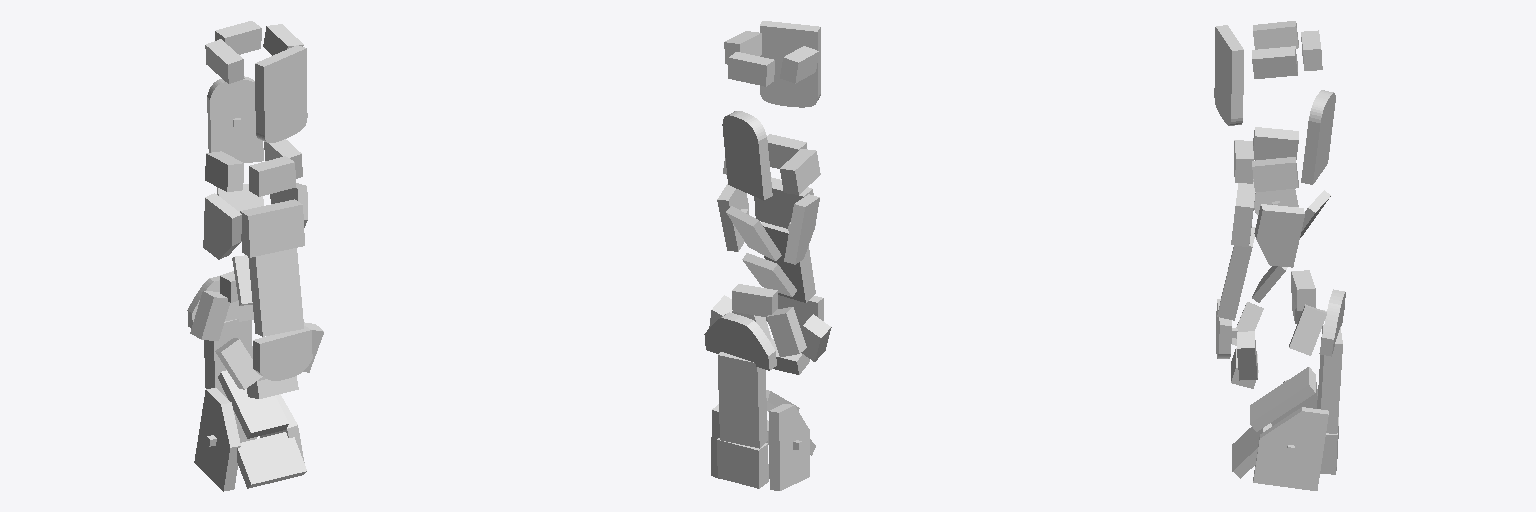
--- Facts derived from the render (not from the file) ---
Views: 3 orthographic renders of the robot side by side, from view 1: azimuth 30°, elevation 25°; view 2: azimuth 150°, elevation 25°; view 3: azimuth 270°, elevation 25°.
Model GEN3_URDF_V12 with 38 links and 37 joints (3 revolute, 4 continuous, 30 fixed), rooted at base_link, posed every joint at zero.
Visible links, largest first — view 1: Taxel_1001, Taxel_1012, Taxel_1005, Taxel_1024, Taxel_1013, Taxel_1026, Taxel_1011, Taxel_1027, Taxel_1014, Taxel_1022, Taxel_1007, Taxel_1020 (+11 smaller); view 2: Taxel_1022, Taxel_1001, Taxel_1005, Taxel_1024, Taxel_1021, Taxel_1023, Taxel_1012, Taxel_1014, Taxel_1013, Taxel_1020, Taxel_1006, Taxel_1003 (+10 smaller); view 3: Taxel_1025, Taxel_1001, Taxel_1015, Taxel_1005, Taxel_1027, Taxel_1022, Taxel_1012, Taxel_1004, Taxel_1006, Taxel_1002, Taxel_1013, Taxel_1018 (+12 smaller).
Boxes of the visible links, left/top/right/bottom form: Taxel_1001: left=255, top=45, right=307, bottom=142; Taxel_1012: left=248, top=248, right=303, bottom=336; Taxel_1005: left=207, top=76, right=263, bottom=162; Taxel_1024: left=194, top=388, right=240, bottom=491; Taxel_1013: left=240, top=199, right=304, bottom=257; Taxel_1026: left=237, top=432, right=306, bottom=488; Taxel_1011: left=253, top=326, right=312, bottom=380; Taxel_1027: left=218, top=370, right=288, bottom=438; Taxel_1014: left=203, top=193, right=241, bottom=259; Taxel_1022: left=204, top=319, right=252, bottom=412; Taxel_1007: left=249, top=156, right=295, bottom=196; Taxel_1020: left=190, top=291, right=229, bottom=340; Taxel_1022: left=718, top=352, right=767, bottom=448; Taxel_1001: left=760, top=21, right=820, bottom=107; Taxel_1005: left=722, top=111, right=772, bottom=200; Taxel_1024: left=769, top=404, right=809, bottom=490; Taxel_1021: left=704, top=312, right=776, bottom=370; Taxel_1023: left=717, top=438, right=768, bottom=488; Taxel_1012: left=761, top=222, right=815, bottom=302; Taxel_1014: left=784, top=194, right=819, bottom=264; Taxel_1013: left=754, top=177, right=815, bottom=228; Taxel_1020: left=767, top=307, right=806, bottom=357; Taxel_1006: left=780, top=149, right=820, bottom=194; Taxel_1003: left=728, top=52, right=774, bottom=86; Taxel_1025: left=1253, top=407, right=1328, bottom=490; Taxel_1001: left=1214, top=25, right=1243, bottom=125; Taxel_1015: left=1254, top=204, right=1304, bottom=267; Taxel_1005: left=1301, top=90, right=1335, bottom=184; Taxel_1027: left=1250, top=367, right=1315, bottom=431; Taxel_1022: left=1317, top=325, right=1342, bottom=433; Taxel_1012: left=1217, top=227, right=1255, bottom=320; Taxel_1004: left=1252, top=157, right=1298, bottom=191; Taxel_1006: left=1253, top=127, right=1298, bottom=160; Taxel_1002: left=1252, top=46, right=1297, bottom=78; Taxel_1013: left=1231, top=182, right=1255, bottom=246; Taxel_1018: left=1289, top=304, right=1326, bottom=355.
Size in the robot's own frame: 0.1445 by 0.1679 by 0.6189 metres.
28 mesh visuals loaded from 36 distinct referenced files (28 binary STL); not drawn: 8 (reference not matched to a file when rendering).

URDF robot description (GEN3_URDF_V12):
<robot name="GEN3_URDF_V12" version="1.0">
  <material name="carbon_fiber">
    <color rgba="0.9 0.9 0.9 1"/>
  </material>
  <link name="base_link">
    <inertial>
      <origin xyz="-0.000648 -0.000166 0.084487" rpy="0 0 0" />
      <mass value="1.697" />
      <inertia ixx="0.004622" ixy="9E-06" ixz="6E-05" iyy="0.004495" iyz="9E-06" izz="0.002079" />
    </inertial>
    <visual>
      <origin xyz="0 0 0" rpy="0 0 0" />
      <geometry>
        <mesh filename="package://meshes/base_link.STL" />
      </geometry>
      <material name="carbon_fiber"/>
    </visual>
    <collision>
      <origin xyz="0 0 0" rpy="0 0 0" />
      <geometry>
        <mesh filename="package://meshes/base_link.STL" />
      </geometry>
    </collision>
  </link>
  <link name="Shoulder_Link">
    <inertial>
      <origin xyz="-2.3E-05 -0.010364 -0.07336" rpy="0 0 0" />
      <mass value="1.3773" />
      <inertia ixx="0.00457" ixy="1E-06" ixz="2E-06" iyy="0.004831" iyz="0.000448" izz="0.001409" />
    </inertial>
    <visual>
      <origin xyz="0 0 0" rpy="0 0 0" />
      <geometry>
        <mesh filename="package://meshes/shoulder_link.STL" />
      </geometry>
      <material name="carbon_fiber"/>
    </visual>
    <collision>
      <origin xyz="0 0 0" rpy="0 0 0" />
      <geometry>
        <mesh filename="package://meshes/shoulder_link.STL" />
      </geometry>
    </collision>
  </link>
  <joint name="Actuator1" type="continuous">
    <origin xyz="0 0 0.15643" rpy="3.1416 2.7629E-18 -4.9305E-36" />
    <parent link="base_link" />
    <child link="Shoulder_Link" />
    <axis xyz="0 0 1" />
    <limit effort="39" velocity="0.8727" />
  </joint>
  <link name="HalfArm1_Link">
    <inertial>
      <origin xyz="-4.4E-05 -0.09958 -0.013278" rpy="0 0 0" />
      <mass value="1.1636" />
      <inertia ixx="0.011088" ixy="5E-06" ixz="0" iyy="0.001072" iyz="-0.000691" izz="0.011255" />
    </inertial>
    <visual>
      <origin xyz="0 0 0" rpy="0 0 0" />
      <geometry>
        <mesh filename="package://meshes/half_arm_1_link.STL" />
      </geometry>
      <material name="carbon_fiber"/>
    </visual>
    <collision>
      <origin xyz="0 0 0" rpy="0 0 0" />
      <geometry>
        <mesh filename="package://meshes/half_arm_1_link.STL" />
      </geometry>
    </collision>
  </link>
  <joint name="Actuator2" type="revolute">
    <origin xyz="0 0.005375 -0.12838" rpy="1.5708 2.1343E-17 -1.1102E-16" />
    <parent link="Shoulder_Link" />
    <child link="HalfArm1_Link" />
    <axis xyz="0 0 1" />
    <limit lower="-2.41" upper="2.41" effort="39" velocity="0.8727" />
  </joint>
  <link name="HalfArm2_Link">
    <inertial>
      <origin xyz="-4.4E-05 -0.006641 -0.117892" rpy="0 0 0" />
      <mass value="1.1636" />
      <inertia ixx="0.010932" ixy="0" ixz="-7E-06" iyy="0.011127" iyz="0.000606" izz="0.001043" />
    </inertial>
    <visual>
      <origin xyz="0 0 0" rpy="0 0 0" />
      <geometry>
        <mesh filename="package://meshes/half_arm_2_link.STL" />
      </geometry>
      <material name="carbon_fiber"/>
    </visual>
    <collision>
      <origin xyz="0 0 0" rpy="0 0 0" />
      <geometry>
        <mesh filename="package://meshes/half_arm_2_link.STL" />
      </geometry>
    </collision>
  </link>
  <joint name="Actuator3" type="continuous">
    <origin xyz="0 -0.21038 -0.006375" rpy="-1.5708 1.2326E-32 -2.9122E-16" />
    <parent link="HalfArm1_Link" />
    <child link="HalfArm2_Link" />
    <axis xyz="0 0 1" />
    <limit effort="39" velocity="0.8727" />
  </joint>
  <link name="ForeArm_Link">
    <inertial>
      <origin xyz="-1.8E-05 -0.075478 -0.015006" rpy="0 0 0" />
      <mass value="0.9302" />
      <inertia ixx="0.008147" ixy="-1E-06" ixz="0" iyy="0.000631" iyz="-0.0005" izz="0.008316" />
    </inertial>
    <visual>
      <origin xyz="0 0 0" rpy="0 0 0" />
      <geometry>
        <mesh filename="package://meshes/forearm_link.STL" />
      </geometry>
      <material name="carbon_fiber"/>
    </visual>
    <collision>
      <origin xyz="0 0 0" rpy="0 0 0" />
      <geometry>
        <mesh filename="package://meshes/forearm_link.STL" />
      </geometry>
    </collision>
  </link>
  <joint name="Actuator4" type="revolute">
    <origin xyz="0 0.006375 -0.21038" rpy="1.5708 -6.6954E-17 -1.6653E-16" />
    <parent link="HalfArm2_Link" />
    <child link="ForeArm_Link" />
    <axis xyz="0 0 1" />
    <limit lower="-2.66" upper="2.66" effort="39" velocity="0.8727" />
  </joint>
  <link name="SphericalWrist1_Link">
    <inertial>
      <origin xyz="1E-06 -0.009432 -0.063883" rpy="0 0 0" />
      <mass value="0.6781" />
      <inertia ixx="0.001596" ixy="0" ixz="0" iyy="0.001607" iyz="0.000256" izz="0.000399" />
    </inertial>
    <visual>
      <origin xyz="0 0 0" rpy="0 0 0" />
      <geometry>
        <mesh filename="package://meshes/spherical_wrist_1_link.STL" />
      </geometry>
      <material name="carbon_fiber"/>
    </visual>
    <collision>
      <origin xyz="0 0 0" rpy="0 0 0" />
      <geometry>
        <mesh filename="package://meshes/spherical_wrist_1_link.STL" />
      </geometry>
    </collision>
  </link>
  <joint name="Actuator5" type="continuous">
    <origin xyz="0 -0.20843 -0.006375" rpy="-1.5708 2.2204E-16 -6.373E-17" />
    <parent link="ForeArm_Link" />
    <child link="SphericalWrist1_Link" />
    <axis xyz="0 0 1" />
    <limit effort="9" velocity="0.8727" />
  </joint>
  <link name="SphericalWrist2_Link">
    <inertial>
      <origin xyz="1E-06 -0.045483 -0.00965" rpy="0 0 0" />
      <mass value="0.6781" />
      <inertia ixx="0.001641" ixy="0" ixz="0" iyy="0.00041" iyz="-0.000278" izz="0.001641" />
    </inertial>
    <visual>
      <origin xyz="0 0 0" rpy="0 0 0" />
      <geometry>
        <mesh filename="package://meshes/spherical_wrist_2_link.STL" />
      </geometry>
      <material name="carbon_fiber"/>
    </visual>
    <collision>
      <origin xyz="0 0 0" rpy="0 0 0" />
      <geometry>
        <mesh filename="package://meshes/spherical_wrist_2_link.STL" />
      </geometry>
    </collision>
  </link>
  <joint name="Actuator6" type="revolute">
    <origin xyz="0 0.00017505 -0.10593" rpy="1.5708 9.2076E-28 -8.2157E-15" />
    <parent link="SphericalWrist1_Link" />
    <child link="SphericalWrist2_Link" />
    <axis xyz="0 0 1" />
    <limit lower="-2.23" upper="2.23" effort="9" velocity="0.8727" />
  </joint>
  <link name="Bracelet_Link">
    <inertial>
      <origin xyz="-0.000281 -0.011402 -0.029798" rpy="0 0 0" />
      <mass value="0.5006" />
      <inertia ixx="0.000587" ixy="3E-06" ixz="3E-06" iyy="0.000369" iyz="0.000118" izz="0.000609" />
    </inertial>
    <visual>
      <origin xyz="0 0 0" rpy="0 0 0" />
      <geometry>
        <mesh filename="package://meshes/bracelet_link.STL" />
      </geometry>
      <material name="carbon_fiber"/>
    </visual>
    <collision>
      <origin xyz="0 0 0" rpy="0 0 0" />
      <geometry>
        <mesh filename="package://meshes/bracelet_link.STL" />
      </geometry>
    </collision>
  </link>
  <joint name="Actuator7" type="continuous">
    <origin xyz="0 -0.10593 -0.00017505" rpy="-1.5708 -5.5511E-17 9.6396E-17" />
    <parent link="SphericalWrist2_Link" />
    <child link="Bracelet_Link" />
    <axis xyz="0 0 1" />
    <limit effort="9" velocity="0.8727" />
  </joint>
  <link name="EndEffector_Link">
    <inertial>
      <origin xyz="2.607703E-08 -0.06152506 -1.476509E-22" rpy="0 0 3.14159265358979"/>
      <mass value="1e-6" />
      <inertia ixx="1e-6" ixy="0" ixz="0" iyy="1e-6" iyz="0" izz="1e-6" />
    </inertial>
  </link>
  <joint name="EndEffector" type="fixed">
    <origin xyz="0 0 -0.0615250000000001" rpy="3.14159265358979 1.09937075168372E-32 0" />
    <parent link="Bracelet_Link" />
    <child link="EndEffector_Link" />
    <axis xyz="0 0 0" />
  </joint>
  <link name="GraspPoint_Link">
    <inertial>
      <origin xyz="-1.683871E-08 0.15 -9.884628E-23" rpy="0 0 0"/>
      <mass value="1e-6" />
      <inertia ixx="1e-6" ixy="0" ixz="0" iyy="1e-6" iyz="0" izz="1e-6" />
    </inertial>
  </link>
  <joint name="GraspPoint" type="fixed">
    <origin xyz="0 0 0.15" rpy="0 0 0" />
    <parent link="EndEffector_Link" />
    <child link="GraspPoint_Link" />
    <axis xyz="0 0 0" />
  </joint>









  <link name="Taxel_1000">
    <inertial>
      <origin xyz="1 1 1" rpy="0 0 0" />
      <mass value="0" />
      <inertia ixx="0" ixy="0" ixz="0" iyy="0" iyz="0" izz="0" />
    </inertial>
    <visual>
      <origin xyz="-0.04250419541867655 -0.07646850041798192 0.0007855905951708805" rpy="-3.089065137954023 -1.4616505955674288 -1.7314738657660083" />
      <geometry>
        <mesh filename="package://meshes/taxel_0.STL" scale="0.01 0.01 0.01"/>
      </geometry>
      <material name="carbon_fiber" />
    </visual>
    <collision>
      <origin xyz="0 0 0" rpy="0 0 0" />
      <geometry>
        <mesh filename="package://meshes/taxel_0.STL" scale="0.01 0.01 0.01"/>
      </geometry>
    </collision>
  </link>

  <joint name="Taxel_1000_joint" type="fixed">
    <origin xyz="0 0 0" rpy="0 0 0" />
    <parent link="SphericalWrist2_Link" />
    <child link="Taxel_1000" />
    <axis xyz="0 0 0" />
  </joint>


  <link name="Taxel_1001">
    <inertial>
      <origin xyz="0 0 0" rpy="0 0 0" />
      <mass value="0" />
      <inertia ixx="0" ixy="0" ixz="0" iyy="0" iyz="0" izz="0" />
    </inertial>
    <visual>
      <origin xyz="-1.4938605298674768e-05 -0.040050790502569544 -0.051076626480111506" rpy="0.8051031730330349 1.1810370681142635 -0.8047010596119217" />
      <geometry>
        <mesh filename="package://meshes/taxel_1.STL" scale="0.01 0.01 0.01"/>
      </geometry>
      <material name="carbon_fiber" />
    </visual>
    <collision>
      <origin xyz="0 0 0" rpy="0 0 0" />
      <geometry>
        <mesh filename="package://meshes/taxel_1.STL" scale="0.01 0.01 0.01"/>
      </geometry>
    </collision>
  </link>

  <joint name="Taxel_1001_joint" type="fixed">
    <origin xyz="0 0 0" rpy="0 0 0" />
    <parent link="SphericalWrist2_Link" />
    <child link="Taxel_1001" />
    <axis xyz="0 0 0" />
  </joint>


  <link name="Taxel_1002">
    <inertial>
      <origin xyz="0 0 0" rpy="0 0 0" />
      <mass value="0" />
      <inertia ixx="0" ixy="0" ixz="0" iyy="0" iyz="0" izz="0" />
    </inertial>
    <visual>
      <origin xyz="0.04271566985884755 -0.07873195857060433 -0.00022802633048775445" rpy="-3.088541874391563 1.4614478801616517 1.7319294614617435" />
      <geometry>
        <mesh filename="package://meshes/taxel_2.STL" scale="0.01 0.01 0.01"/>
      </geometry>
      <material name="carbon_fiber" />
    </visual>
    <collision>
      <origin xyz="0 0 0" rpy="0 0 0" />
      <geometry>
        <mesh filename="package://meshes/taxel_2.STL" scale="0.01 0.01 0.01"/>
      </geometry>
    </collision>
  </link>

  <joint name="Taxel_1002_joint" type="fixed">
    <origin xyz="0 0 0" rpy="0 0 0" />
    <parent link="SphericalWrist2_Link" />
    <child link="Taxel_1002" />
    <axis xyz="0 0 0" />
  </joint>


  <link name="Taxel_1003">
    <inertial>
      <origin xyz="0 0 0" rpy="0 0 0" />
      <mass value="0" />
      <inertia ixx="0" ixy="0" ixz="0" iyy="0" iyz="0" izz="0" />
    </inertial>
    <visual>
      <origin xyz="-1.241750836219415e-05 -0.07730975191366674 0.0431837840229755" rpy="0.7858420871596943 -1.494090029759969 -2.355205855806936" />
      <geometry>
        <mesh filename="package://meshes/taxel_3.STL" scale="0.01 0.01 0.01"/>
      </geometry>
      <material name="carbon_fiber" />
    </visual>
    <collision>
      <origin xyz="0 0 0" rpy="0 0 0" />
      <geometry>
        <mesh filename="package://meshes/taxel_3.STL" scale="0.01 0.01 0.01"/>
      </geometry>
    </collision>
  </link>

  <joint name="Taxel_1003_joint" type="fixed">
    <origin xyz="0 0 0" rpy="0 0 0" />
    <parent link="SphericalWrist2_Link" />
    <child link="Taxel_1003" />
    <axis xyz="0 0 0" />
  </joint>


  <link name="Taxel_1004">
    <inertial>
      <origin xyz="0 0 0" rpy="0 0 0" />
      <mass value="0" />
      <inertia ixx="0" ixy="0" ixz="0" iyy="0" iyz="0" izz="0" />
    </inertial>
    <visual>
      <origin xyz="0.043150247276728726 -0.0001254639437208889 -0.02783098306648868" rpy="-0.10804878460644929 0.10728206669616602 -1.572018748036638" />
      <geometry>
        <mesh filename="package://meshes/taxel_4.STL" scale="0.01 0.01 0.01"/>
      </geometry>
      <material name="carbon_fiber" />
    </visual>
    <collision>
      <origin xyz="0 0 0" rpy="0 0 0" />
      <geometry>
        <mesh filename="package://meshes/taxel_4.STL" scale="0.01 0.01 0.01"/>
      </geometry>
    </collision>
  </link>

  <joint name="Taxel_1004_joint" type="fixed">
    <origin xyz="0 0 0" rpy="0 0 0" />
    <parent link="SphericalWrist1_Link" />
    <child link="Taxel_1004" />
    <axis xyz="0 0 0" />
  </joint>


  <link name="Taxel_1005">
    <inertial>
      <origin xyz="0 0 0" rpy="0 0 0" />
      <mass value="0" />
      <inertia ixx="0" ixy="0" ixz="0" iyy="0" iyz="0" izz="0" />
    </inertial>
    <visual>
      <origin xyz="-0.0002382337409993086 -0.05179760671765822 -0.06710984221647054" rpy="-3.1415729263051864 0.2887493170310709 1.85959195023485" />
      <geometry>
        <mesh filename="package://meshes/taxel_5.STL" scale="0.01 0.01 0.01"/>
      </geometry>
      <material name="carbon_fiber" />
    </visual>
    <collision>
      <origin xyz="0 0 0" rpy="0 0 0" />
      <geometry>
        <mesh filename="package://meshes/taxel_5.STL" scale="0.01 0.01 0.01"/>
      </geometry>
    </collision>
  </link>

  <joint name="Taxel_1005_joint" type="fixed">
    <origin xyz="0 0 0" rpy="0 0 0" />
    <parent link="SphericalWrist1_Link" />
    <child link="Taxel_1005" />
    <axis xyz="0 0 0" />
  </joint>


  <link name="Taxel_1006">
    <inertial>
      <origin xyz="0 0 0" rpy="0 0 0" />
      <mass value="0" />
      <inertia ixx="0" ixy="0" ixz="0" iyy="0" iyz="0" izz="0" />
    </inertial>
    <visual>
      <origin xyz="-0.04318974980140639 -0.00010915210035311942 -0.02761946835919482" rpy="-3.0338279148872993 -0.10703935821961919 -1.5720999606389765" />
      <geometry>
        <mesh filename="package://meshes/taxel_6.STL" scale="0.01 0.01 0.01"/>
      </geometry>
      <material name="carbon_fiber" />
    </visual>
    <collision>
      <origin xyz="0 0 0" rpy="0 0 0" />
      <geometry>
        <mesh filename="package://meshes/taxel_6.STL" scale="0.01 0.01 0.01"/>
      </geometry>
    </collision>
  </link>

  <joint name="Taxel_1006_joint" type="fixed">
    <origin xyz="0 0 0" rpy="0 0 0" />
    <parent link="SphericalWrist1_Link" />
    <child link="Taxel_1006" />
    <axis xyz="0 0 0" />
  </joint>


  <link name="Taxel_1007">
    <inertial>
      <origin xyz="0 0 0" rpy="0 0 0" />
      <mass value="0" />
      <inertia ixx="0" ixy="0" ixz="0" iyy="0" iyz="0" izz="0" />
    </inertial>
    <visual>
      <origin xyz="-1.1618120415300221e-05 0.043922698718644126 -0.02686054939608018" rpy="-3.141575363345089 0.03470509551820289 1.5361425157308872" />
      <geometry>
        <mesh filename="package://meshes/taxel_7.STL" scale="0.01 0.01 0.01"/>
      </geometry>
      <material name="carbon_fiber" />
    </visual>
    <collision>
      <origin xyz="0 0 0" rpy="0 0 0" />
      <geometry>
        <mesh filename="package://meshes/taxel_7.STL" scale="0.01 0.01 0.01"/>
      </geometry>
    </collision>
  </link>

  <joint name="Taxel_1007_joint" type="fixed">
    <origin xyz="0 0 0" rpy="0 0 0" />
    <parent link="SphericalWrist1_Link" />
    <child link="Taxel_1007" />
    <axis xyz="0 0 0" />
  </joint>


  <link name="Taxel_1008">
    <inertial>
      <origin xyz="0 0 0" rpy="0 0 0" />
      <mass value="0" />
      <inertia ixx="0" ixy="0" ixz="0" iyy="0" iyz="0" izz="0" />
    </inertial>
    <visual>
      <origin xyz="0.047082560876994604 0.016625508860321547 -0.046140884202656954" rpy="-2.12255653015872 -0.006017370331153238 0.35511138283130794" />
      <geometry>
        <mesh filename="package://meshes/taxel_8.STL" scale="0.01 0.01 0.01"/>
      </geometry>
      <material name="carbon_fiber" />
    </visual>
    <collision>
      <origin xyz="0 0 0" rpy="0 0 0" />
      <geometry>
        <mesh filename="package://meshes/taxel_8.STL" scale="0.01 0.01 0.01"/>
      </geometry>
    </collision>
  </link>

  <joint name="Taxel_1008_joint" type="fixed">
    <origin xyz="0 0 0" rpy="0 0 0" />
    <parent link="ForeArm_Link" />
    <child link="Taxel_1008" />
    <axis xyz="0 0 0" />
  </joint>


  <link name="Taxel_1009">
    <inertial>
      <origin xyz="0 0 0" rpy="0 0 0" />
      <mass value="0" />
      <inertia ixx="0" ixy="0" ixz="0" iyy="0" iyz="0" izz="0" />
    </inertial>
    <visual>
      <origin xyz="-6.7198083501523495e-06 0.05300935180393007 -0.04461977697709482" rpy="0.01962196621053769 1.2859131033980784 -1.5519825273381969" />
      <geometry>
        <mesh filename="package://meshes/taxel_9.STL" scale="0.01 0.01 0.01"/>
      </geometry>
      <material name="carbon_fiber" />
    </visual>
    <collision>
      <origin xyz="0 0 0" rpy="0 0 0" />
      <geometry>
        <mesh filename="package://meshes/taxel_9.STL" scale="0.01 0.01 0.01"/>
      </geometry>
    </collision>
  </link>

  <joint name="Taxel_1009_joint" type="fixed">
    <origin xyz="0 0 0" rpy="0 0 0" />
    <parent link="ForeArm_Link" />
    <child link="Taxel_1009" />
    <axis xyz="0 0 0" />
  </joint>


  <link name="Taxel_1010">
    <inertial>
      <origin xyz="0 0 0" rpy="0 0 0" />
      <mass value="0" />
      <inertia ixx="0" ixy="0" ixz="0" iyy="0" iyz="0" izz="0" />
    </inertial>
    <visual>
      <origin xyz="-0.047097438974916264 0.016627161287515402 -0.04613586787243025" rpy="2.5894382405952054 0.005855314805167211 2.7166321094460137" />
      <geometry>
        <mesh filename="package://meshes/taxel_10.STL" scale="0.01 0.01 0.01"/>
      </geometry>
      <material name="carbon_fiber" />
    </visual>
    <collision>
      <origin xyz="0 0 0" rpy="0 0 0" />
      <geometry>
        <mesh filename="package://meshes/taxel_10.STL" scale="0.01 0.01 0.01"/>
      </geometry>
    </collision>
  </link>

  <joint name="Taxel_1010_joint" type="fixed">
    <origin xyz="0 0 0" rpy="0 0 0" />
    <parent link="ForeArm_Link" />
    <child link="Taxel_1010" />
    <axis xyz="0 0 0" />
  </joint>


  <link name="Taxel_1011">
    <inertial>
      <origin xyz="0 0 0" rpy="0 0 0" />
      <mass value="0" />
      <inertia ixx="0" ixy="0" ixz="0" iyy="0" iyz="0" izz="0" />
    </inertial>
    <visual>
      <origin xyz="-7.590645030513553e-06 0.006405133918228834 -0.06439226342932816" rpy="0.785253005285182 1.504836646979335 -0.7866488104429892" />
      <geometry>
        <mesh filename="package://meshes/taxel_11.STL" scale="0.01 0.01 0.01"/>
      </geometry>
      <material name="carbon_fiber" />
    </visual>
    <collision>
      <origin xyz="0 0 0" rpy="0 0 0" />
      <geometry>
        <mesh filename="package://meshes/taxel_11.STL" scale="0.01 0.01 0.01"/>
      </geometry>
    </collision>
  </link>

  <joint name="Taxel_1011_joint" type="fixed">
    <origin xyz="0 0 0" rpy="0 0 0" />
    <parent link="ForeArm_Link" />
    <child link="Taxel_1011" />
    <axis xyz="0 0 0" />
  </joint>


  <link name="Taxel_1012">
    <inertial>
      <origin xyz="0 0 0" rpy="0 0 0" />
      <mass value="0" />
      <inertia ixx="0" ixy="0" ixz="0" iyy="0" iyz="0" izz="0" />
    </inertial>
    <visual>
      <origin xyz="-8.828563007841432e-06 -0.08046080686920276 -0.059019306181966213" rpy="2.3538499386692475 1.440912816500405 -2.3543282724947714" />
      <geometry>
        <mesh filename="package://meshes/taxel_12.STL" scale="0.01 0.01 0.01"/>
      </geometry>
      <material name="carbon_fiber" />
    </visual>
    <collision>
      <origin xyz="0 0 0" rpy="0 0 0" />
      <geometry>
        <mesh filename="package://meshes/taxel_12.STL" scale="0.01 0.01 0.01"/>
      </geometry>
    </collision>
  </link>

  <joint name="Taxel_1012_joint" type="fixed">
    <origin xyz="0 0 0" rpy="0 0 0" />
    <parent link="ForeArm_Link" />
    <child link="Taxel_1012" />
    <axis xyz="0 0 0" />
  </joint>


  <link name="Taxel_1013">
    <inertial>
      <origin xyz="0 0 0" rpy="0 0 0" />
      <mass value="0" />
      <inertia ixx="0" ixy="0" ixz="0" iyy="0" iyz="0" izz="0" />
    </inertial>
    <visual>
      <origin xyz="-9.803819467654521e-06 -0.16267771019312338 -0.050246400171184896" rpy="2.3550998817982522 1.4963497778455341 -2.3559203713851993" />
      <geometry>
        <mesh filename="package://meshes/taxel_13.STL" scale="0.01 0.01 0.01"/>
      </geometry>
      <material name="carbon_fiber" />
    </visual>
    <collision>
      <origin xyz="0 0 0" rpy="0 0 0" />
      <geometry>
        <mesh filename="package://meshes/taxel_13.STL" scale="0.01 0.01 0.01"/>
      </geometry>
    </collision>
  </link>

  <joint name="Taxel_1013_joint" type="fixed">
    <origin xyz="0 0 0" rpy="0 0 0" />
    <parent link="ForeArm_Link" />
    <child link="Taxel_1013" />
    <axis xyz="0 0 0" />
  </joint>


  <link name="Taxel_1014">
    <inertial>
      <origin xyz="0 0 0" rpy="0 0 0" />
      <mass value="0" />
      <inertia ixx="0" ixy="0" ixz="0" iyy="0" iyz="0" izz="0" />
    </inertial>
    <visual>
      <origin xyz="-0.04173526667542263 -0.15496948117011622 -0.005150262600599035" rpy="2.5046383948751076 1.33042878555269 0.8393308399794326" />
      <geometry>
        <mesh filename="package://meshes/taxel_14.STL" scale="0.01 0.01 0.01"/>
      </geometry>
      <material name="carbon_fiber" />
    </visual>
    <collision>
      <origin xyz="0 0 0" rpy="0 0 0" />
      <geometry>
        <mesh filename="package://meshes/taxel_14.STL" scale="0.01 0.01 0.01"/>
      </geometry>
    </collision>
  </link>

  <joint name="Taxel_1014_joint" type="fixed">
    <origin xyz="0 0 0" rpy="0 0 0" />
    <parent link="ForeArm_Link" />
    <child link="Taxel_1014" />
    <axis xyz="0 0 0" />
  </joint>


  <link name="Taxel_1015">
    <inertial>
      <origin xyz="0 0 0" rpy="0 0 0" />
      <mass value="0" />
      <inertia ixx="0" ixy="0" ixz="0" iyy="0" iyz="0" izz="0" />
    </inertial>
    <visual>
      <origin xyz="0.04171973319335233 -0.15497094542273304 -0.005154707682772205" rpy="0.6368924235168598 1.330412382902857 -0.8394259869845486" />
      <geometry>
        <mesh filename="package://meshes/taxel_15.STL" scale="0.01 0.01 0.01"/>
      </geometry>
      <material name="carbon_fiber" />
    </visual>
    <collision>
      <origin xyz="0 0 0" rpy="0 0 0" />
      <geometry>
        <mesh filename="package://meshes/taxel_15.STL" scale="0.01 0.01 0.01"/>
      </geometry>
    </collision>
  </link>

  <joint name="Taxel_1015_joint" type="fixed">
    <origin xyz="0 0 0" rpy="0 0 0" />
    <parent link="ForeArm_Link" />
    <child link="Taxel_1015" />
    <axis xyz="0 0 0" />
  </joint>


  <link name="Taxel_1016">
    <inertial>
      <origin xyz="0 0 0" rpy="0 0 0" />
      <mass value="0" />
      <inertia ixx="0" ixy="0" ixz="0" iyy="0" iyz="0" izz="0" />
    </inertial>
    <visual>
      <origin xyz="-5.302853516851408e-06 -0.15282581480448965 0.031012491151505076" rpy="0.8199999767698127 -1.0569270037748635 0.8198628370685848" />
      <geometry>
        <mesh filename="package://meshes/taxel_16.STL" scale="0.01 0.01 0.01"/>
      </geometry>
      <material name="carbon_fiber" />
    </visual>
    <collision>
      <origin xyz="0 0 0" rpy="0 0 0" />
      <geometry>
        <mesh filename="package://meshes/taxel_16.STL" scale="0.01 0.01 0.01"/>
      </geometry>
    </collision>
  </link>

  <joint name="Taxel_1016_joint" type="fixed">
    <origin xyz="0 0 0" rpy="0 0 0" />
    <parent link="ForeArm_Link" />
    <child link="Taxel_1016" />
    <axis xyz="0 0 0" />
  </joint>


  <link name="Taxel_1017">
    <inertial>
      <origin xyz="0 0 0" rpy="0 0 0" />
      <mass value="0" />
      <inertia ixx="0" ixy="0" ixz="0" iyy="0" iyz="0" izz="0" />
    </inertial>
    <visual>
      <origin xyz="-6.150508083981775e-06 -0.07701626534250128 -0.00987434420722404" rpy="0.8113037932073812 -1.1238328528427188 0.8111496978970347" />
      <geometry>
        <mesh filename="package://meshes/taxel_17.STL" scale="0.01 0.01 0.01"/>
      </geometry>
      <material name="carbon_fiber" />
    </visual>
    <collision>
      <origin xyz="0 0 0" rpy="0 0 0" />
      <geometry>
        <mesh filename="package://meshes/taxel_17.STL" scale="0.01 0.01 0.01"/>
      </geometry>
    </collision>
  </link>

  <joint name="Taxel_1017_joint" type="fixed">
    <origin xyz="0 0 0" rpy="0 0 0" />
    <parent link="ForeArm_Link" />
    <child link="Taxel_1017" />
    <axis xyz="0 0 0" />
  </joint>


  <link name="Taxel_1018">
    <inertial>
      <origin xyz="0 0 0" rpy="0 0 0" />
      <mass value="0" />
      <inertia ixx="0" ixy="0" ixz="0" iyy="0" iyz="0" izz="0" />
    </inertial>
    <visual>
      <origin xyz="0.04775940299230756 -0.029172408330763868 -0.2301544199406168" rpy="-2.4460869817984157 0.3504669400695146 1.684170583195792" />
      <geometry>
        <mesh filename="package://meshes/taxel_18.STL" scale="0.01 0.01 0.01"/>
      </geometry>
      <material name="carbon_fiber" />
    </visual>
    <collision>
      <origin xyz="0 0 0" rpy="0 0 0" />
      <geometry>
        <mesh filename="package://meshes/taxel_18.STL" scale="0.01 0.01 0.01"/>
      </geometry>
    </collision>
  </link>

  <joint name="Taxel_1018_joint" type="fixed">
    <origin xyz="0 0 0" rpy="0 0 0" />
    <parent link="HalfArm2_Link" />
    <child link="Taxel_1018" />
    <axis xyz="0 0 0" />
  </joint>


  <link name="Taxel_1019">
    <inertial>
      <origin xyz="0 0 0" rpy="0 0 0" />
      <mass value="0" />
      <inertia ixx="0" ixy="0" ixz="0" iyy="0" iyz="0" izz="0" />
    </inertial>
    <visual>
      <origin xyz="-2.092488763690554e-06 -0.02694220419582137 -0.2644489118296661" rpy="2.299985585708317 1.5707831143376723 -2.5519764715765914" />
      <geometry>
        <mesh filename="package://meshes/taxel_19.STL" scale="0.01 0.01 0.01"/>
      </geometry>
      <material name="carbon_fiber" />
    </visual>
    <collision>
      <origin xyz="0 0 0" rpy="0 0 0" />
      <geometry>
        <mesh filename="package://meshes/taxel_19.STL" scale="0.01 0.01 0.01"/>
      </geometry>
    </collision>
  </link>

  <joint name="Taxel_1019_joint" type="fixed">
    <origin xyz="0 0 0" rpy="0 0 0" />
    <parent link="HalfArm2_Link" />
    <child link="Taxel_1019" />
    <axis xyz="0 0 0" />
  </joint>


  <link name="Taxel_1020">
    <inertial>
      <origin xyz="0 0 0" rpy="0 0 0" />
      <mass value="0" />
      <inertia ixx="0" ixy="0" ixz="0" iyy="0" iyz="0" izz="0" />
    </inertial>
    <visual>
      <origin xyz="-0.04713575005582718 -0.026383465676048472 -0.23055139832768035" rpy="2.766356220239004 0.3454780726652773 3.002022745094882" />
      <geometry>
        <mesh filename="package://meshes/taxel_20.STL" scale="0.01 0.01 0.01"/>
      </geometry>
      <material name="carbon_fiber" />
    </visual>
    <collision>
      <origin xyz="0 0 0" rpy="0 0 0" />
      <geometry>
        <mesh filename="package://meshes/taxel_20.STL" scale="0.01 0.01 0.01"/>
      </geometry>
    </collision>
  </link>

  <joint name="Taxel_1020_joint" type="fixed">
    <origin xyz="0 0 0" rpy="0 0 0" />
    <parent link="HalfArm2_Link" />
    <child link="Taxel_1020" />
    <axis xyz="0 0 0" />
  </joint>


  <link name="Taxel_1021">
    <inertial>
      <origin xyz="0 0 0" rpy="0 0 0" />
      <mass value="0" />
      <inertia ixx="0" ixy="0" ixz="0" iyy="0" iyz="0" izz="0" />
    </inertial>
    <visual>
      <origin xyz="-1.2173507245044695e-06 -0.054580934607185494 -0.22775170878253925" rpy="-3.141580678335084 0.13439616083551265 1.7052415470541025" />
      <geometry>
        <mesh filename="package://meshes/taxel_21.STL" scale="0.01 0.01 0.01"/>
      </geometry>
      <material name="carbon_fiber" />
    </visual>
    <collision>
      <origin xyz="0 0 0" rpy="0 0 0" />
      <geometry>
        <mesh filename="package://meshes/taxel_21.STL" scale="0.01 0.01 0.01"/>
      </geometry>
    </collision>
  </link>

  <joint name="Taxel_1021_joint" type="fixed">
    <origin xyz="0 0 0" rpy="0 0 0" />
    <parent link="HalfArm2_Link" />
    <child link="Taxel_1021" />
    <axis xyz="0 0 0" />
  </joint>


  <link name="Taxel_1022">
    <inertial>
      <origin xyz="0 0 0" rpy="0 0 0" />
      <mass value="0" />
      <inertia ixx="0" ixy="0" ixz="0" iyy="0" iyz="0" izz="0" />
    </inertial>
    <visual>
      <origin xyz="-0.0001333060986898991 -0.05338028930573722 -0.1389517161450241" rpy="3.141582095148209 -0.05760383141792591 -1.628338320979829" />
      <geometry>
        <mesh filename="package://meshes/taxel_22.STL" scale="0.01 0.01 0.01"/>
      </geometry>
      <material name="carbon_fiber" />
    </visual>
    <collision>
      <origin xyz="0 0 0" rpy="0 0 0" />
      <geometry>
        <mesh filename="package://meshes/taxel_22.STL" scale="0.01 0.01 0.01"/>
      </geometry>
    </collision>
  </link>

  <joint name="Taxel_1022_joint" type="fixed">
    <origin xyz="0 0 0" rpy="0 0 0" />
    <parent link="HalfArm2_Link" />
    <child link="Taxel_1022" />
    <axis xyz="0 0 0" />
  </joint>


  <link name="Taxel_1023">
    <inertial>
      <origin xyz="0 0 0" rpy="0 0 0" />
      <mass value="0" />
      <inertia ixx="0" ixy="0" ixz="0" iyy="0" iyz="0" izz="0" />
    </inertial>
    <visual>
      <origin xyz="-3.23855682768594e-05 -0.05187961469696644 -0.04785172827035311" rpy="3.1415814150437598 -0.03491354341370023 -1.5358360861938545" />
      <geometry>
        <mesh filename="package://meshes/taxel_23.STL" scale="0.01 0.01 0.01"/>
      </geometry>
      <material name="carbon_fiber" />
    </visual>
    <collision>
      <origin xyz="0 0 0" rpy="0 0 0" />
      <geometry>
        <mesh filename="package://meshes/taxel_23.STL" scale="0.01 0.01 0.01"/>
      </geometry>
    </collision>
  </link>

  <joint name="Taxel_1023_joint" type="fixed">
    <origin xyz="0 0 0" rpy="0 0 0" />
    <parent link="HalfArm2_Link" />
    <child link="Taxel_1023" />
    <axis xyz="0 0 0" />
  </joint>


  <link name="Taxel_1024">
    <inertial>
      <origin xyz="0 0 0" rpy="0 0 0" />
      <mass value="0" />
      <inertia ixx="0" ixy="0" ixz="0" iyy="0" iyz="0" izz="0" />
    </inertial>
    <visual>
      <origin xyz="-0.0500349226337144 -0.007382389594276225 -0.06305150607070498" rpy="-3.0185224846261898 0.1212507004418315 -1.555781857794618" />
      <geometry>
        <mesh filename="package://meshes/taxel_24.STL" scale="0.01 0.01 0.01"/>
      </geometry>
      <material name="carbon_fiber" />
    </visual>
    <collision>
      <origin xyz="0 0 0" rpy="0 0 0" />
      <geometry>
        <mesh filename="package://meshes/taxel_24.STL" scale="0.01 0.01 0.01"/>
      </geometry>
    </collision>
  </link>

  <joint name="Taxel_1024_joint" type="fixed">
    <origin xyz="0 0 0" rpy="0 0 0" />
    <parent link="HalfArm2_Link" />
    <child link="Taxel_1024" />
    <axis xyz="0 0 0" />
  </joint>


  <link name="Taxel_1025">
    <inertial>
      <origin xyz="0 0 0" rpy="0 0 0" />
      <mass value="0" />
      <inertia ixx="0" ixy="0" ixz="0" iyy="0" iyz="0" izz="0" />
    </inertial>
    <visual>
      <origin xyz="0.05086506074464583 -0.00737702635118296 -0.06455261415550584" rpy="3.0006009182233573 -0.13826586736296864 -1.5511845056165128" />
      <geometry>
        <mesh filename="package://meshes/taxel_25.STL" scale="0.01 0.01 0.01"/>
      </geometry>
      <material name="carbon_fiber" />
    </visual>
    <collision>
      <origin xyz="0 0 0" rpy="0 0 0" />
      <geometry>
        <mesh filename="package://meshes/taxel_25.STL" scale="0.01 0.01 0.01"/>
      </geometry>
    </collision>
  </link>

  <joint name="Taxel_1025_joint" type="fixed">
    <origin xyz="0 0 0" rpy="0 0 0" />
    <parent link="HalfArm2_Link" />
    <child link="Taxel_1025" />
    <axis xyz="0 0 0" />
  </joint>


  <link name="Taxel_1026">
    <inertial>
      <origin xyz="0 0 0" rpy="0 0 0" />
      <mass value="0" />
      <inertia ixx="0" ixy="0" ixz="0" iyy="0" iyz="0" izz="0" />
    </inertial>
    <visual>
      <origin xyz="0.0018625242094073681 0.04412050179254166 -0.0457524543636606" rpy="1.1844515798387079e-05 0.3839797815321262 1.5708540271714284" />
      <geometry>
        <mesh filename="package://meshes/taxel_26.STL" scale="0.01 0.01 0.01"/>
      </geometry>
      <material name="carbon_fiber" />
    </visual>
    <collision>
      <origin xyz="0 0 0" rpy="0 0 0" />
      <geometry>
        <mesh filename="package://meshes/taxel_26.STL" scale="0.01 0.01 0.01"/>
      </geometry>
    </collision>
  </link>

  <joint name="Taxel_1026_joint" type="fixed">
    <origin xyz="0 0 0" rpy="0 0 0" />
    <parent link="HalfArm2_Link" />
    <child link="Taxel_1026" />
    <axis xyz="0 0 0" />
  </joint>


  <link name="Taxel_1027">
    <inertial>
      <origin xyz="0 0 0" rpy="0 0 0" />
      <mass value="0" />
      <inertia ixx="0" ixy="0" ixz="0" iyy="0" iyz="0" izz="0" />
    </inertial>
    <visual>
      <origin xyz="0.0008638901480674864 0.004619954887956686 -0.11295215320413332" rpy="1.2325445466920826e-05 0.471246244125481 1.5708551857728619" />
      <geometry>
        <mesh filename="package://meshes/taxel_27.STL" scale="0.01 0.01 0.01"/>
      </geometry>
      <material name="carbon_fiber" />
    </visual>
    <collision>
      <origin xyz="0 0 0" rpy="0 0 0" />
      <geometry>
        <mesh filename="package://meshes/taxel_27.STL" scale="0.01 0.01 0.01"/>
      </geometry>
    </collision>
  </link>

  <joint name="Taxel_1027_joint" type="fixed">
    <origin xyz="0 0 0" rpy="0 0 0" />
    <parent link="HalfArm2_Link" />
    <child link="Taxel_1027" />
    <axis xyz="0 0 0" />
  </joint>

</robot>
